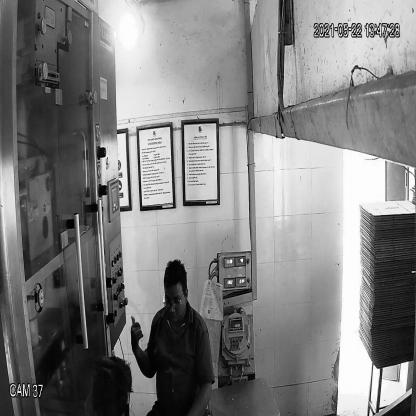goggles: (160, 292, 188, 314)
